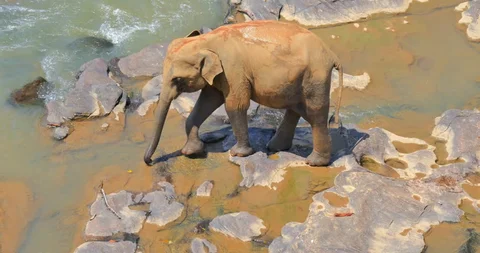Adult Elephant: (134, 16, 378, 175)
